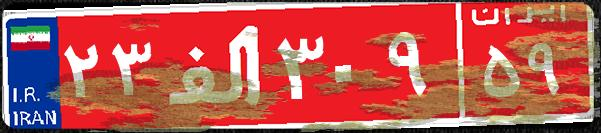0: (330, 28, 385, 110)
2: (57, 26, 110, 107)
3: (273, 28, 330, 110), (110, 28, 158, 105)
5: (475, 38, 525, 113)
9: (385, 28, 445, 110), (525, 38, 570, 115)
الف: (158, 15, 273, 115)
